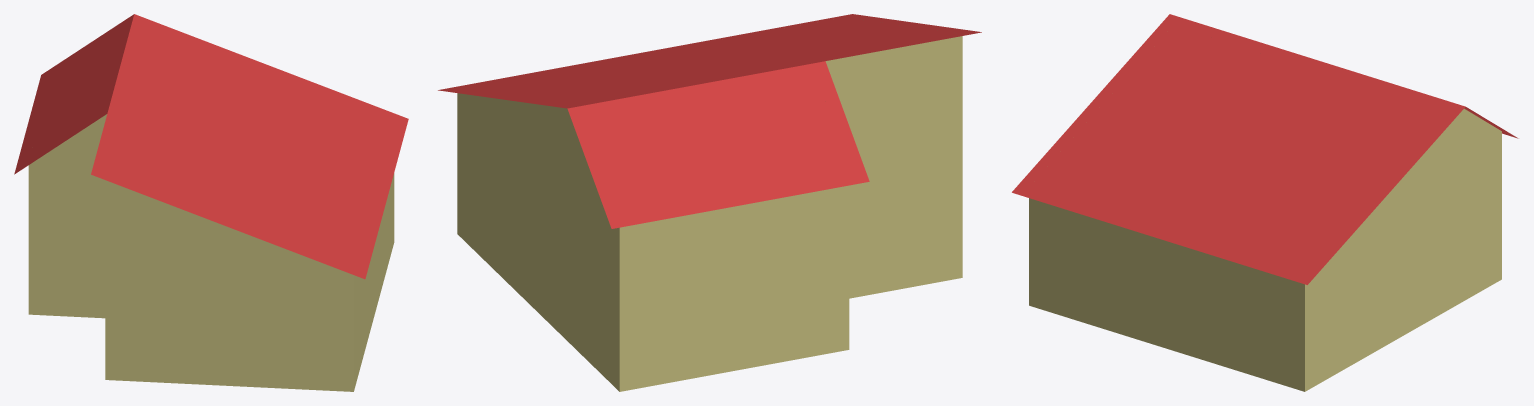
The picture shows the model from 3 angles, left to right: view 1: azimuth 30°, elevation 25°; view 2: azimuth 150°, elevation 25°; view 3: azimuth 270°, elevation 25°; orthographic projection. The views are drawn at different scales.
Bounding box in the file's own units: 25.82 × 30.29 × 13.32.
